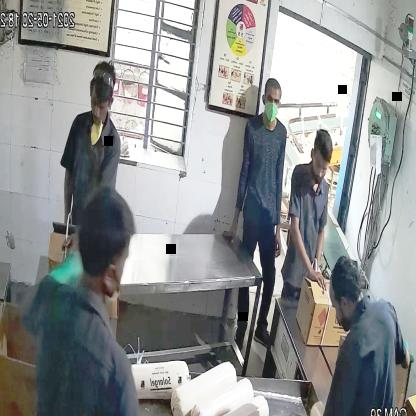goggles: (312, 158, 332, 178)
no_goggles: (87, 95, 111, 114), (262, 92, 284, 110)
